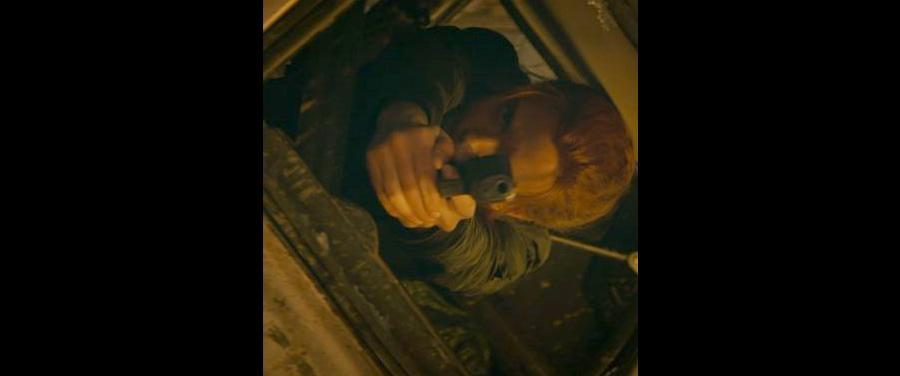gun: (424, 148, 526, 210)
